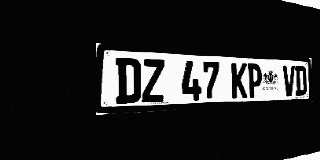4: (182, 60, 201, 101)
7: (202, 61, 220, 100)
D: (115, 57, 141, 104), (295, 66, 306, 96)
K: (231, 63, 247, 99)
P: (247, 63, 262, 98)
V: (283, 65, 295, 96)
Z: (142, 59, 165, 103)
